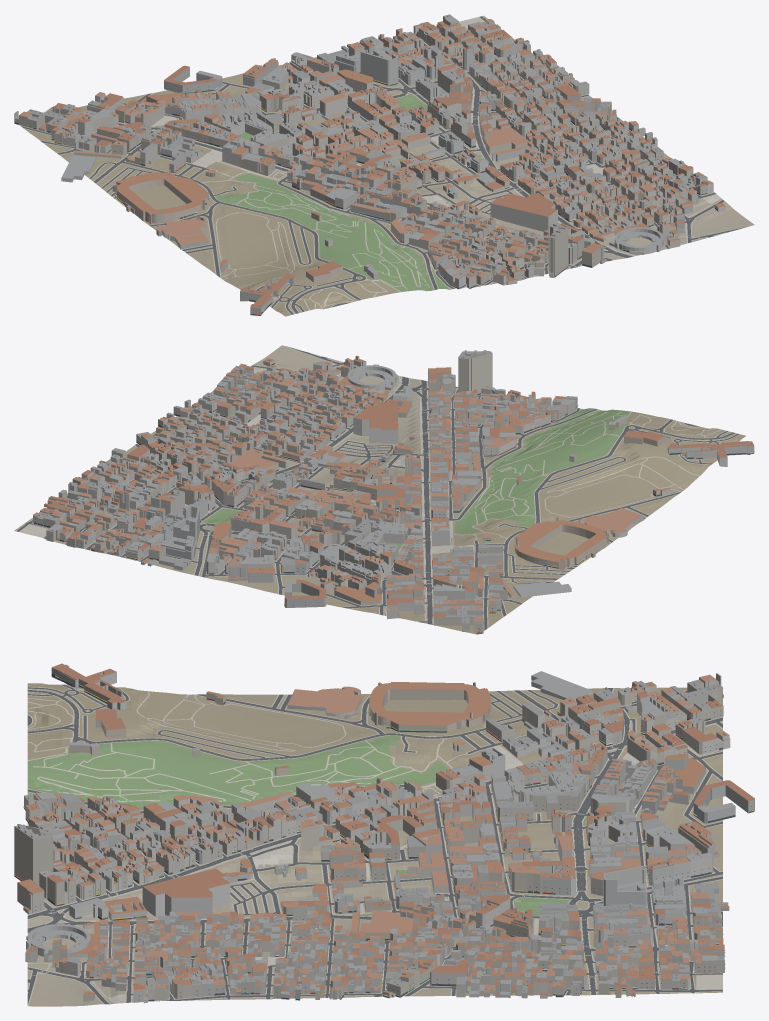
3 views of the same model, one above another, from view 1: azimuth 30°, elevation 25°; view 2: azimuth 150°, elevation 25°; view 3: azimuth 270°, elevation 25° (orthographic). The views are drawn at different scales.
Parts seen in each view (by area): view 1: Walls, Roofs, Ground, Sidewalk, Park, Road, Detail; view 2: Walls, Roofs, Ground, Sidewalk, Road, Park, Detail; view 3: Walls, Roofs, Ground, Sidewalk, Road, Park, Detail.
Part boxes in pixels (x1,y1,x2,y2): Walls: (14,16,725,315); Roofs: (15,14,724,308); Ground: (25,15,753,316); Sidewalk: (20,16,754,314); Park: (215,88,483,291); Road: (20,16,751,314); Detail: (14,31,717,315); Walls: (33,351,754,633); Roofs: (33,350,753,629); Ground: (14,345,745,634); Sidewalk: (15,345,739,630); Road: (16,346,739,630); Park: (203,408,630,550); Detail: (34,363,754,633); Walls: (14,666,754,1003); Roofs: (15,663,754,999); Ground: (27,683,722,1006); Sidewalk: (27,684,722,1006); Road: (27,684,722,1004); Park: (27,735,645,916); Detail: (14,674,753,1000).
Size of the model in its own units: 1060 by 91.59 by 1066.
